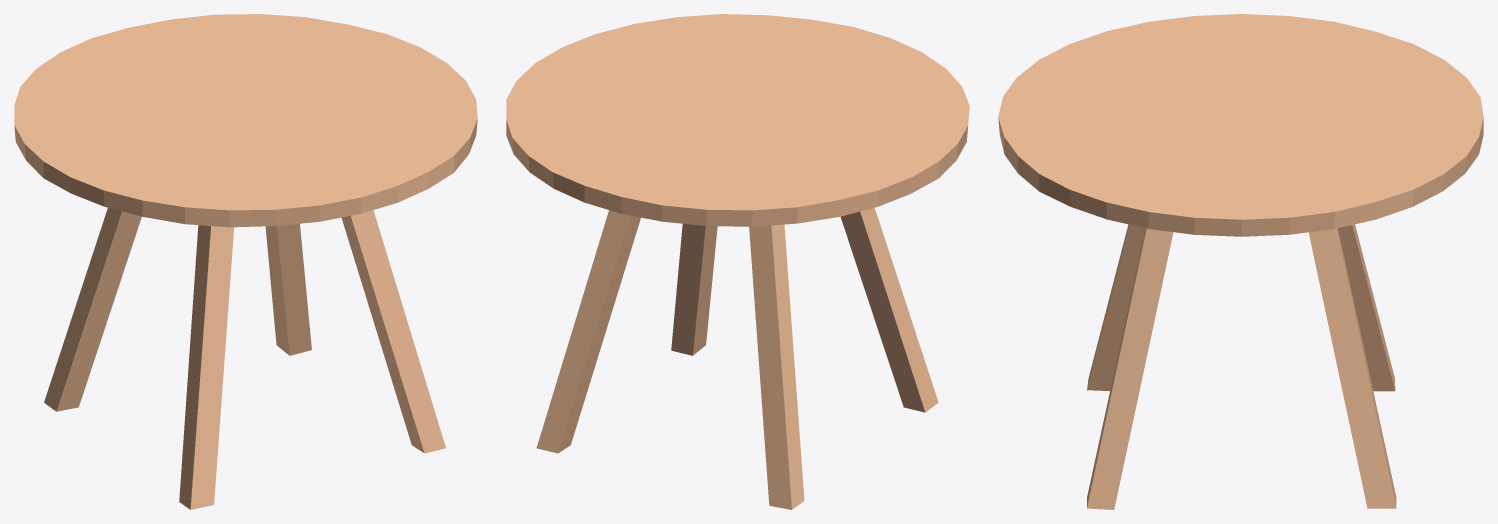
Rendered from table.fbx.
The picture shows the model from 3 angles, left to right: view 1: azimuth 30°, elevation 25°; view 2: azimuth 150°, elevation 25°; view 3: azimuth 270°, elevation 25°; orthographic projection. The views are drawn at different scales.
Parts seen in each view (by area): view 1: table; view 2: table; view 3: table.
Part boxes in pixels (x1,y1,x2,y2): table: (14,14,477,509); table: (506,14,969,509); table: (998,14,1483,509).
Bounding box in the file's own units: 68.77 × 51.17 × 68.57.
